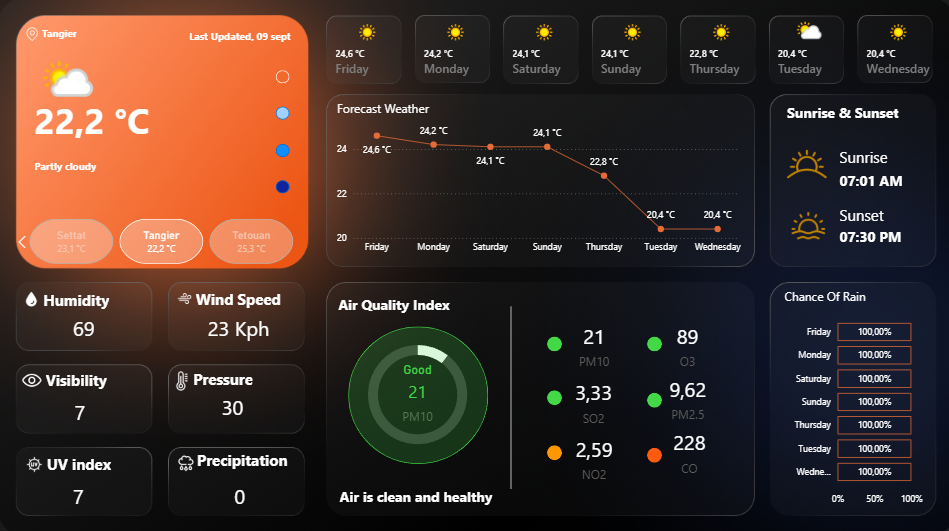

The page's visual inventory and layout, read from the dashboard file:
{"tool":"powerbi","page":{"name":"Page 1","canvas":[1280,720],"ordinal":0},"visuals":[{"type":"advancedSlicerVisual","fields":{"Values":["Locations.location.name"]},"box":[17.7,287.7,402.3,70.8],"z":0},{"type":"shape","box":[49.2,110,198.5,100],"z":1000},{"type":"shape","box":[49.2,207.7,142.3,27.7],"z":2000},{"type":"shape","box":[59.2,32.3,113.8,26.9],"z":3000},{"type":"shape","box":[191.5,35.4,200,26.9],"z":4000},{"type":"image","box":[33.8,29.2,27.7,33.1],"z":5000},{"type":"cardVisual","fields":{"Data":["Min(Current.current.condition.icon)"]},"box":[23.1,54.6,129.2,96.9],"z":6000},{"type":"image","box":[21.1,487.8,50,40],"z":7000},{"type":"shape","box":[61.5,386.9,95.4,27.7],"z":8000},{"type":"image","box":[226.7,491.1,40,35.6],"z":9000},{"type":"image","box":[232.3,385.4,36.2,29.2],"z":10000},{"type":"image","box":[33.1,604.6,32.3,31.5],"z":11000},{"type":"image","box":[24.6,385.4,42.3,30.8],"z":12000},{"type":"image","box":[227.7,602.3,46.9,34.6],"z":13000},{"type":"shape","box":[264.6,385.4,115.4,28.5],"z":14000},{"type":"shape","box":[64.4,493.3,92.2,28.9],"z":15000},{"type":"shape","box":[261.1,491.1,86.7,28.9],"z":16000},{"type":"shape","box":[266.7,602.2,124.4,26.7],"z":17000},{"type":"shape","box":[66.2,606.9,100,26.9],"z":18000},{"type":"card","fields":{"Values":["Sum(Current.current.humidity)"]},"box":[81.5,420,68.5,40.8],"z":19000},{"type":"card","fields":{"Values":["Sum(Current.current.precip_in)"]},"box":[289.2,643.8,67.7,40.8],"z":20000},{"type":"card","fields":{"Values":["Sum(Current.current.uv)"]},"box":[75.4,643.1,67.7,41.5],"z":21000},{"type":"card","fields":{"Values":["_Measures.Wind_Speed"]},"box":[253.8,420,137.7,40.8],"z":22000},{"type":"card","fields":{"Values":["Sum(Current.current.pressure_in)"]},"box":[280,525.5,68.2,40.9],"z":23000},{"type":"card","fields":{"Values":["Sum(Current.current.vis_km)"]},"box":[76.4,531.8,68.2,40.9],"z":24000},{"type":"advancedSlicerVisual","fields":{"Values":["Forcast_Day.Day_Name"]},"box":[433.8,18.8,828.8,91.2],"z":25000},{"type":"lineChart","title":"Forecast Weather","fields":{"Y":["Sum(Forcast_Day.forecast.forecastday.day.avgtemp_c)"],"Category":["Forcast_Day.Day_Name"]},"box":[447.5,135,555,213.8],"z":26000},{"type":"shape","box":[1052.5,120,185,63.8],"z":27000},{"type":"shape","box":[1123.3,295.6,92.2,43.3],"z":28000},{"type":"shape","box":[1123.3,216.7,100,50],"z":29000},{"type":"shape","box":[1123.3,273.3,115.6,28.9],"z":30000},{"type":"shape","box":[1123.3,195.6,115.6,28.9],"z":31000},{"type":"image","box":[1036.7,180,86.7,80],"z":32000},{"type":"image","box":[1044.4,275.6,73.3,54.4],"z":33000},{"type":"hundredPercentStackedBarChart","title":"Chance Of Rain ","fields":{"Y":["Sum(Forcast_Day.forecast.forecastday.day.daily_chance_of_rain)","Sum(Forcast_Day.Left_vlaue_Rain)"],"Category":["Forcast_Day.Day_Name"]},"box":[1044.3,385.7,194.3,300],"z":34000},{"type":"shape","box":[455.7,375.7,184.3,64.3],"z":35000},{"type":"card","fields":{"Values":["Sum(Current.current.air_quality.pm2_5)"]},"box":[858.7,488,126,87.3],"z":36000},{"type":"card","fields":{"Values":["Sum(Current.current.air_quality.co)"]},"box":[852.7,560.7,140,87.3],"z":37000},{"type":"card","fields":{"Values":["Sum(Current.current.air_quality.pm10)"]},"box":[732.7,418.7,126,87.3],"z":38000},{"type":"card","fields":{"Values":["Sum(Current.current.air_quality.so2)"]},"box":[703.3,494,184.7,87.3],"z":39000},{"type":"card","fields":{"Values":["Sum(Current.current.air_quality.no2)"]},"box":[723.3,568.7,146,87.3],"z":40000},{"type":"card","fields":{"Values":["Sum(Current.current.air_quality.o3)"]},"box":[858.7,418,125.3,87.3],"z":41000},{"type":"shape","box":[732.7,450.7,20,20],"z":42000},{"type":"shape","box":[866,598,20,20],"z":43000},{"type":"shape","box":[732.7,522,20,20],"z":44000},{"type":"shape","box":[866,525.3,20,20],"z":45000},{"type":"shape","box":[732.7,594.7,20,20],"z":46000},{"type":"shape","box":[866,450.7,20,20],"z":47000},{"type":"shape","box":[578,410,214,243.3],"z":48000},{"type":"card","fields":{"Values":["Sum(Current.current.air_quality.pm10)"]},"box":[515,483.3,91.7,86.7],"z":49000},{"type":"donutChart","fields":{"Y":["Sum(Current.current.air_quality.pm10)","_Measures.Left_value_PM10"]},"box":[443.3,440.7,235.3,175.3],"z":50000},{"type":"shape","box":[467.5,435.8,186.7,183.3],"z":51000},{"type":"shape","box":[455.8,629.2,244.2,64.2],"z":52000},{"type":"shape","box":[370.8,143.3,18.3,17.5],"z":52001},{"type":"shape","box":[370.8,94.2,18.3,17.5],"z":52002},{"type":"shape","box":[370.8,192.5,18.3,17.5],"z":52003},{"type":"shape","box":[370.8,241.7,18.3,17.5],"z":52004}]}

Visuals, with their boxes in screenshot pixels (x1, y1, x2, y2), scaled from the page's 1280x720 canvas onto the 949x531 screenshot:
advancedSlicerVisual - Locations.location.name: x1=13, y1=212, x2=311, y2=264
shape: x1=36, y1=81, x2=184, y2=155
shape: x1=36, y1=153, x2=142, y2=174
shape: x1=44, y1=24, x2=128, y2=44
shape: x1=142, y1=26, x2=290, y2=46
image: x1=25, y1=22, x2=46, y2=46
cardVisual - Min(Current.current.condition.icon): x1=17, y1=40, x2=113, y2=112
image: x1=16, y1=360, x2=53, y2=389
shape: x1=46, y1=285, x2=116, y2=306
image: x1=168, y1=362, x2=198, y2=388
image: x1=172, y1=284, x2=199, y2=306
image: x1=25, y1=446, x2=48, y2=469
image: x1=18, y1=284, x2=50, y2=307
image: x1=169, y1=444, x2=204, y2=470
shape: x1=196, y1=284, x2=282, y2=305
shape: x1=48, y1=364, x2=116, y2=385
shape: x1=194, y1=362, x2=258, y2=384
shape: x1=198, y1=444, x2=290, y2=464
shape: x1=49, y1=448, x2=123, y2=467
card - Sum(Current.current.humidity): x1=60, y1=310, x2=111, y2=340
card - Sum(Current.current.precip_in): x1=214, y1=475, x2=265, y2=505
card - Sum(Current.current.uv): x1=56, y1=474, x2=106, y2=505
card - _Measures.Wind_Speed: x1=188, y1=310, x2=290, y2=340
card - Sum(Current.current.pressure_in): x1=208, y1=388, x2=258, y2=418
card - Sum(Current.current.vis_km): x1=57, y1=392, x2=107, y2=422
advancedSlicerVisual - Forcast_Day.Day_Name: x1=322, y1=14, x2=936, y2=81
"Forecast Weather" lineChart: x1=332, y1=100, x2=743, y2=257
shape: x1=780, y1=88, x2=917, y2=136
shape: x1=833, y1=218, x2=901, y2=250
shape: x1=833, y1=160, x2=907, y2=197
shape: x1=833, y1=202, x2=919, y2=223
shape: x1=833, y1=144, x2=919, y2=166
image: x1=769, y1=133, x2=833, y2=192
image: x1=774, y1=203, x2=829, y2=243
"Chance Of Rain " hundredPercentStackedBarChart: x1=774, y1=284, x2=918, y2=506
shape: x1=338, y1=277, x2=474, y2=324
card - Sum(Current.current.air_quality.pm2_5): x1=637, y1=360, x2=730, y2=424
card - Sum(Current.current.air_quality.co): x1=632, y1=414, x2=736, y2=478
card - Sum(Current.current.air_quality.pm10): x1=543, y1=309, x2=637, y2=373
card - Sum(Current.current.air_quality.so2): x1=521, y1=364, x2=658, y2=429
card - Sum(Current.current.air_quality.no2): x1=536, y1=419, x2=645, y2=484
card - Sum(Current.current.air_quality.o3): x1=637, y1=308, x2=730, y2=373
shape: x1=543, y1=332, x2=558, y2=347
shape: x1=642, y1=441, x2=657, y2=456
shape: x1=543, y1=385, x2=558, y2=400
shape: x1=642, y1=387, x2=657, y2=402
shape: x1=543, y1=439, x2=558, y2=453
shape: x1=642, y1=332, x2=657, y2=347
shape: x1=429, y1=302, x2=587, y2=482
card - Sum(Current.current.air_quality.pm10): x1=382, y1=356, x2=450, y2=420
donutChart - Sum(Current.current.air_quality.pm10) x _Measures.Left_value_PM10: x1=329, y1=325, x2=503, y2=454
shape: x1=347, y1=321, x2=485, y2=457
shape: x1=338, y1=464, x2=519, y2=511
shape: x1=275, y1=106, x2=288, y2=119
shape: x1=275, y1=69, x2=288, y2=82
shape: x1=275, y1=142, x2=288, y2=155
shape: x1=275, y1=178, x2=288, y2=191
